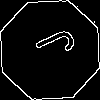J: (25, 25, 77, 67)
